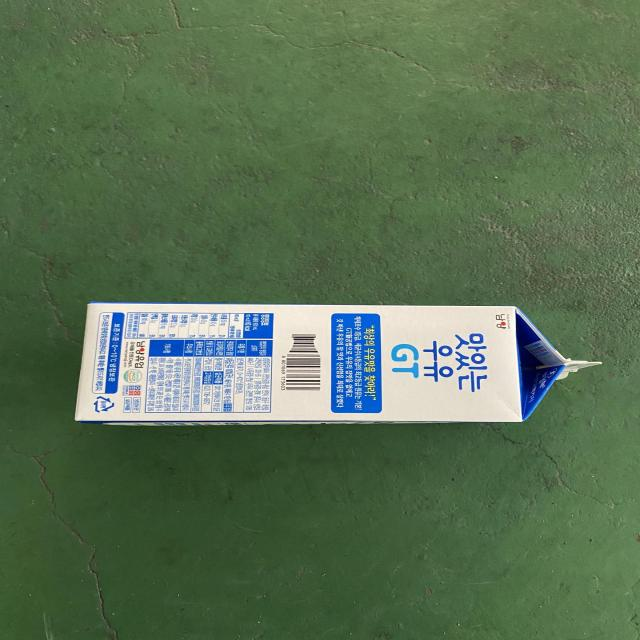paperpack: (75, 303, 601, 425)
